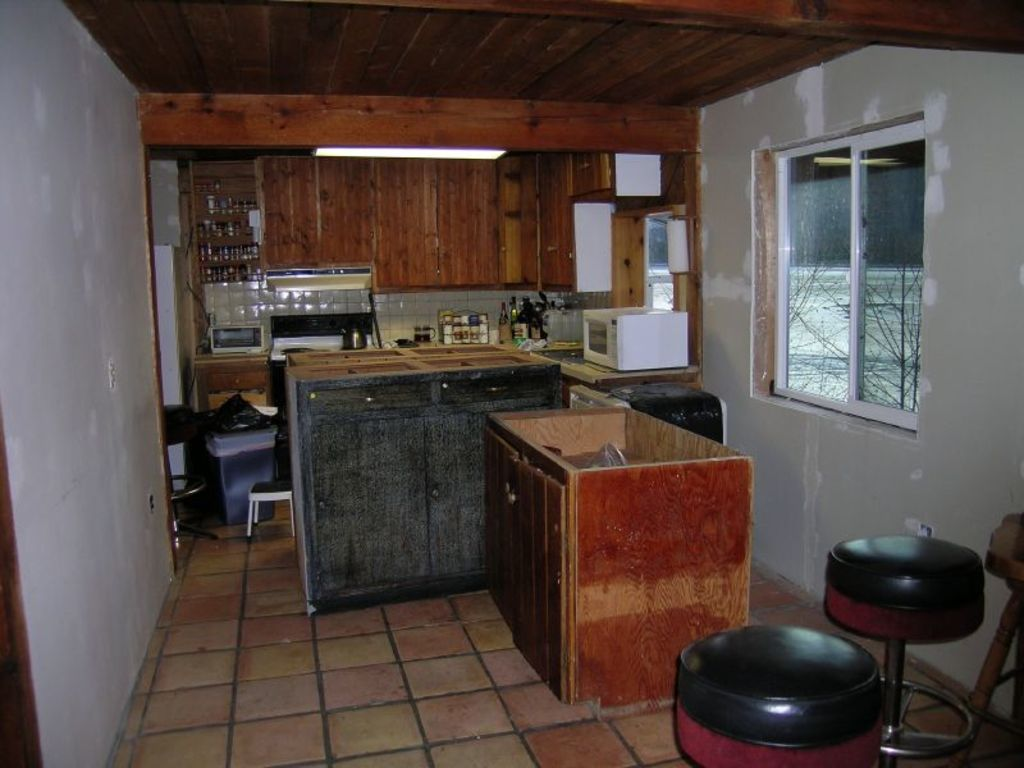Cabinetry: (480, 393, 750, 710), (297, 358, 557, 618), (259, 156, 685, 296), (531, 154, 680, 296), (183, 150, 268, 364), (188, 339, 274, 421), (558, 353, 709, 399)
